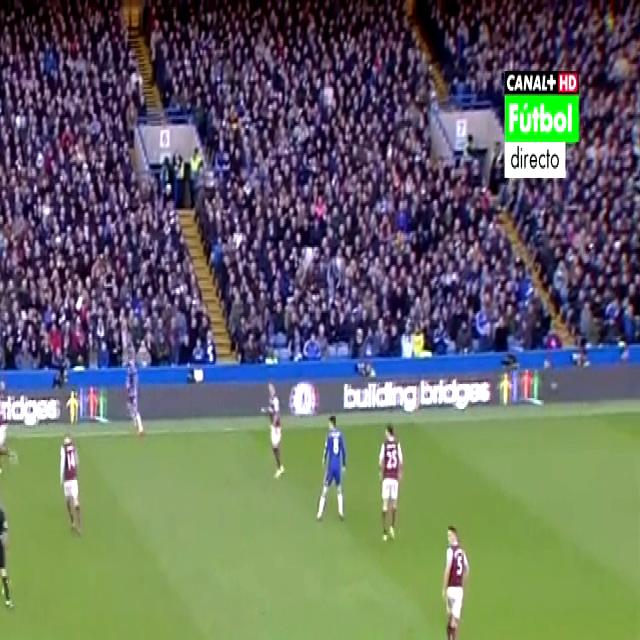referee: (0, 473, 15, 620)
soccer-player: (437, 515, 478, 640), (314, 406, 354, 531), (374, 419, 411, 551), (54, 424, 87, 540), (261, 378, 289, 488), (117, 352, 144, 444), (0, 372, 19, 476)
